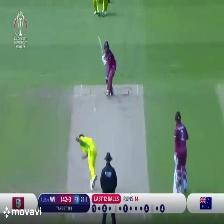ball: (92, 106, 99, 113)
batsman: (95, 35, 117, 97)
